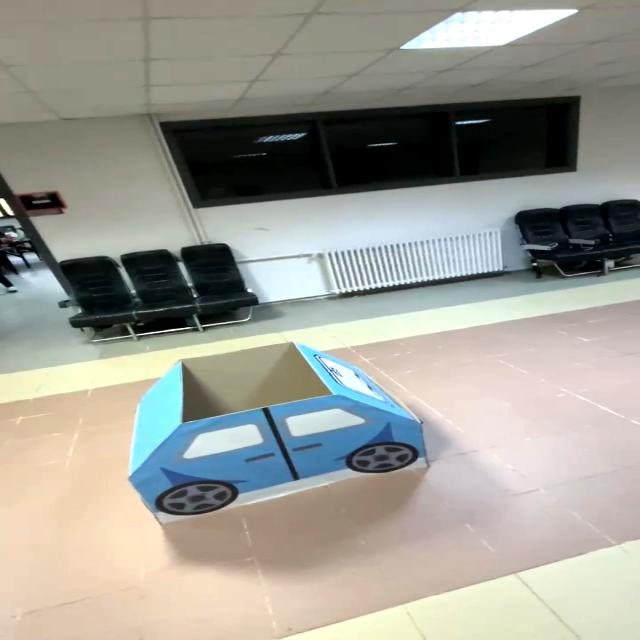blue_car: (36, 330, 500, 545)
